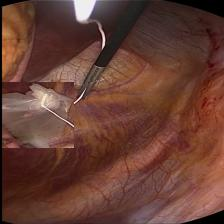Grasper: (74, 66, 106, 102)
Specimen Bag: (0, 82, 73, 148)
